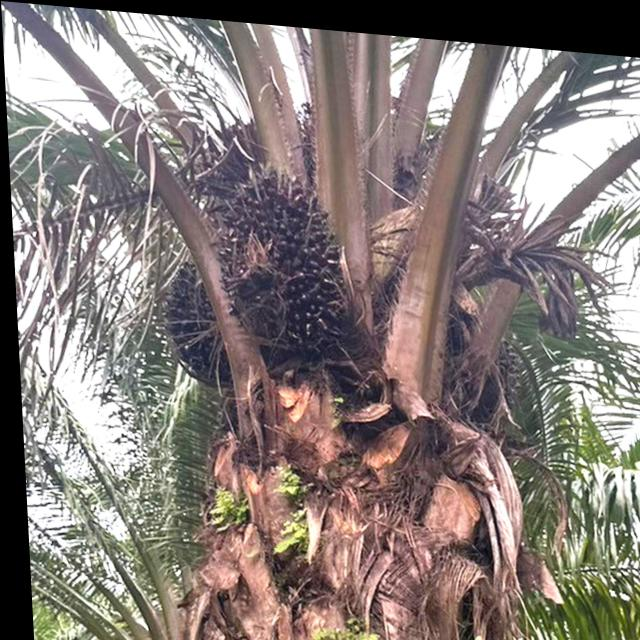ripe: (213, 152, 353, 355), (151, 237, 245, 375)
